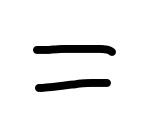eqv: (32, 43, 117, 92)
